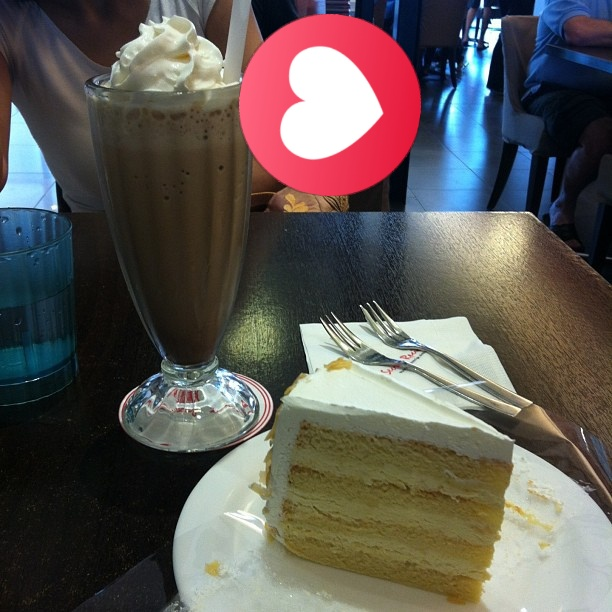love: (239, 14, 421, 196)
